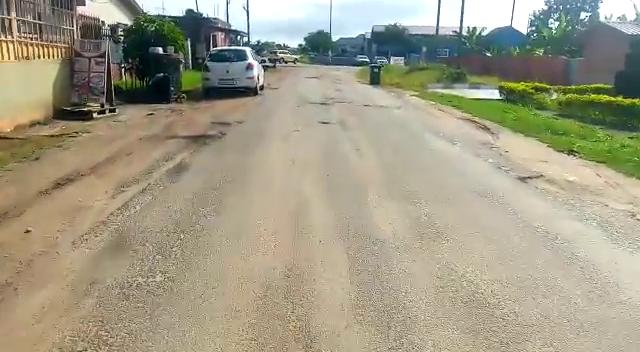pothole: (520, 174, 564, 195)
